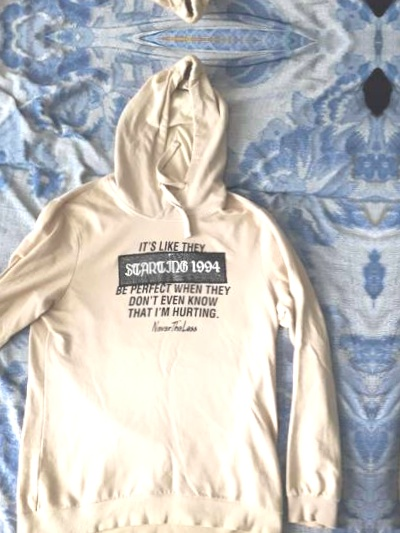Hoodie: (0, 61, 362, 533), (386, 69, 400, 533), (0, 0, 372, 15), (396, 0, 400, 23)
